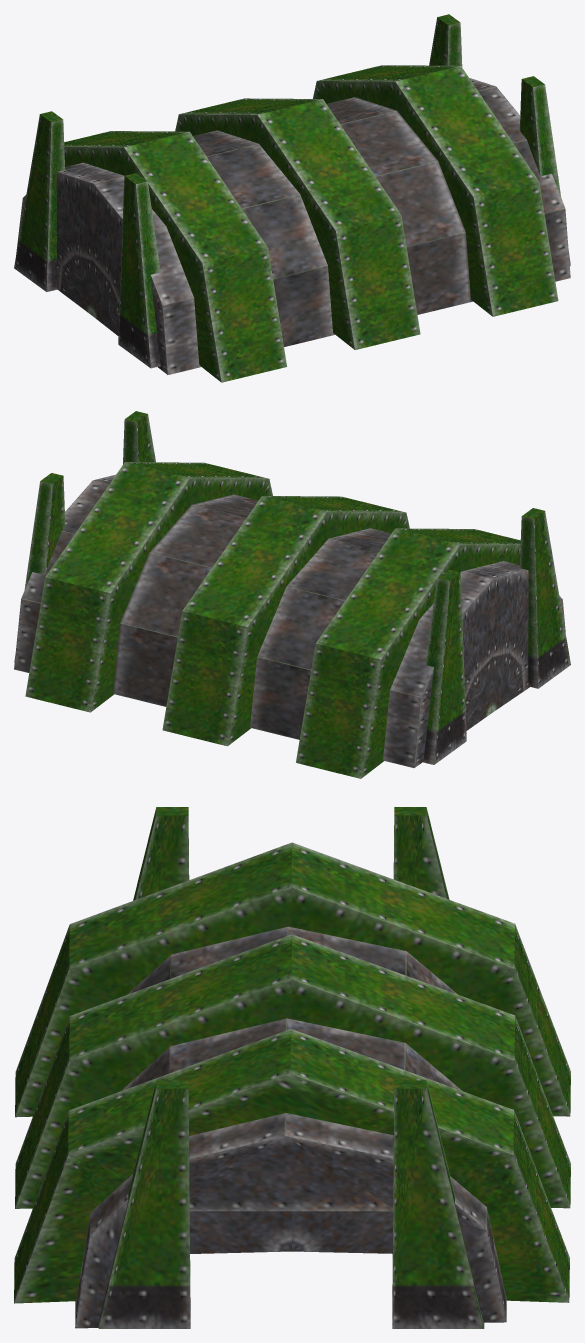
File: hangar02.obj
3 renders of one model, top to bottom at view 1: azimuth 30°, elevation 25°; view 2: azimuth 150°, elevation 25°; view 3: azimuth 270°, elevation 25°, orthographic. The views are drawn at different scales.
Visible parts, largest first — view 1: Hangar02; view 2: Hangar02; view 3: Hangar02.
Boxes of the visible parts, x1,y1,x2,y2 form: Hangar02: [14, 14, 570, 382]; Hangar02: [14, 411, 570, 778]; Hangar02: [14, 807, 570, 1328].
Bounding box in the file's own units: 58.02 × 22.67 × 47.28.
1 material, 1 textured.
